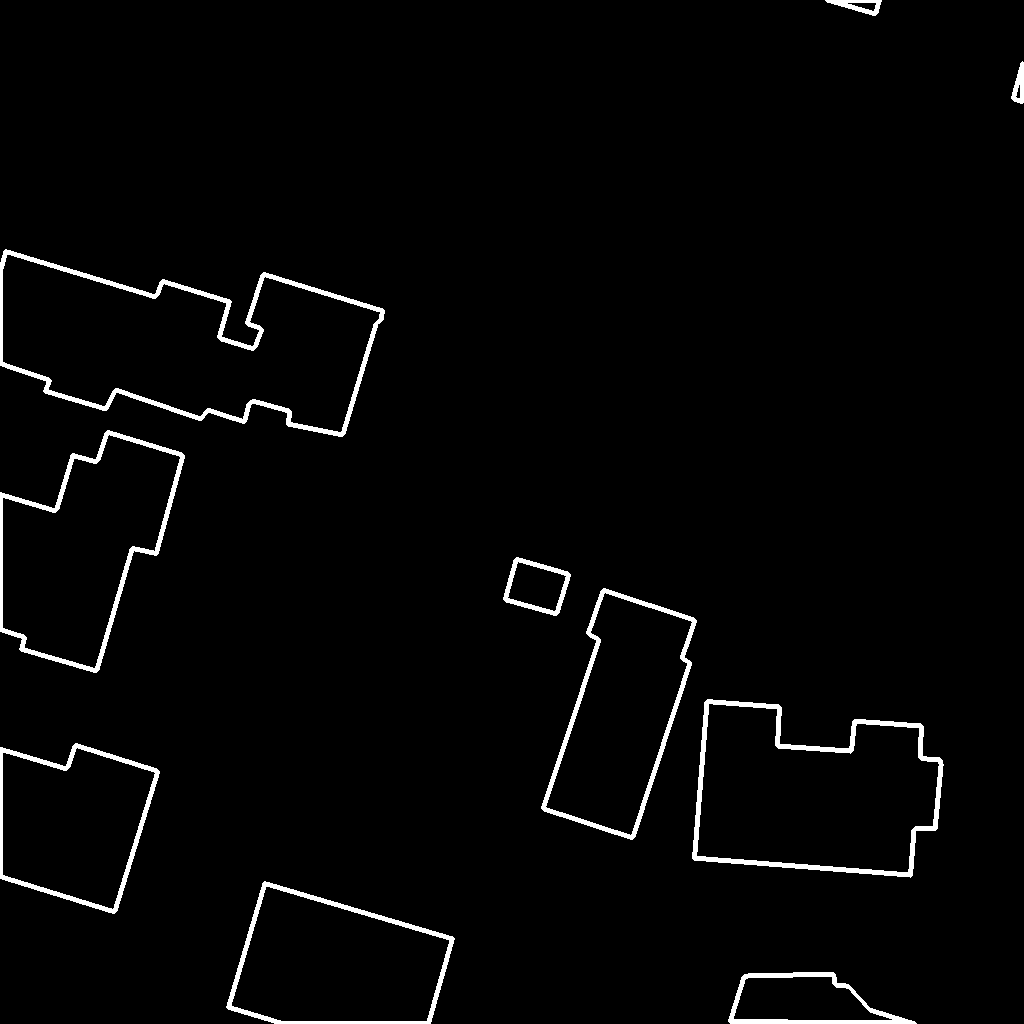building: (0, 251, 384, 436), (0, 432, 184, 672), (694, 701, 942, 876), (543, 590, 696, 839), (228, 883, 454, 1024), (0, 745, 159, 913), (730, 974, 916, 1024), (505, 559, 570, 615), (826, 0, 881, 15), (1013, 62, 1024, 103)
